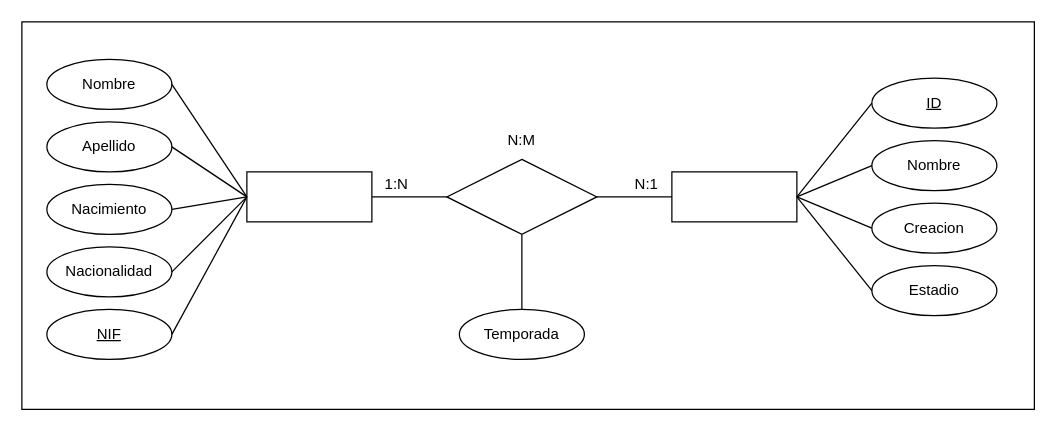
The diagram is 1056 pixels wide and 431 high, and some of its shapes have lost their labels. Here are the shapes that lost their labels. From the top down, the box of each, then its label:
(246, 171, 372, 222): Furbolista
(446, 158, 597, 234): Militacion
(671, 171, 797, 222): Club
